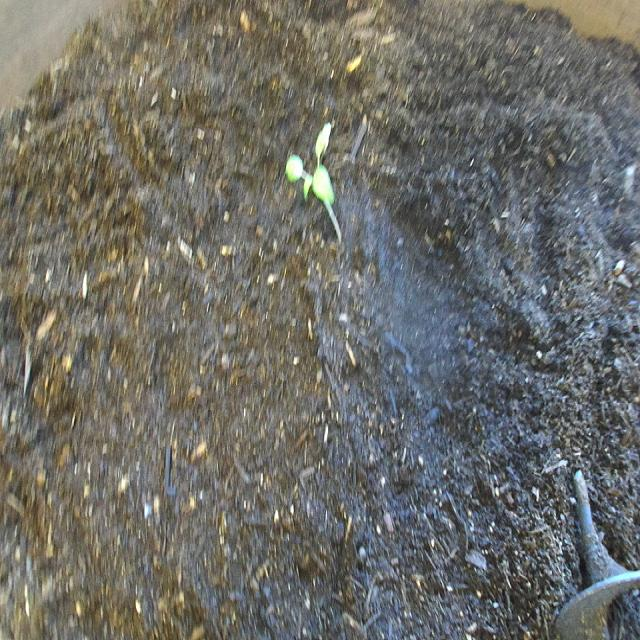Healthy: (280, 112, 352, 259)
